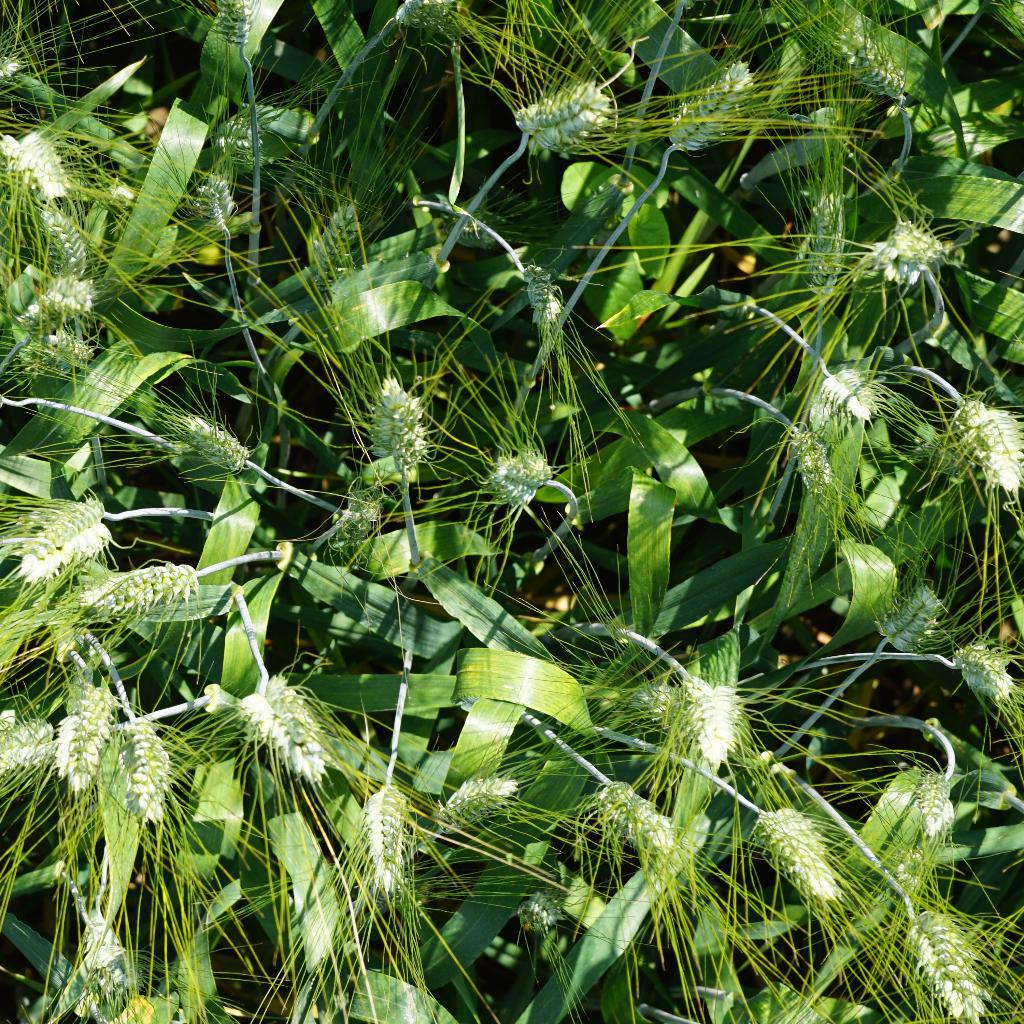0-0: (888, 893, 1005, 1024), (735, 802, 859, 922), (221, 664, 335, 790), (663, 48, 773, 160), (10, 485, 117, 599), (501, 69, 628, 163), (584, 769, 692, 872), (663, 664, 759, 778), (65, 555, 205, 633), (936, 381, 1024, 503), (353, 362, 440, 484), (813, 9, 912, 115), (351, 765, 419, 912), (48, 666, 119, 802), (154, 406, 268, 475), (430, 762, 527, 840), (5, 273, 103, 349), (110, 711, 173, 829), (797, 170, 850, 308), (937, 632, 1024, 716), (308, 181, 366, 306), (0, 121, 83, 208), (874, 570, 954, 660), (860, 215, 945, 296), (810, 354, 895, 433), (68, 891, 131, 996), (476, 436, 564, 511), (614, 672, 712, 739), (25, 196, 94, 290), (0, 708, 65, 807), (513, 258, 584, 348), (777, 420, 843, 508), (321, 482, 395, 559), (902, 762, 965, 850), (423, 201, 524, 255), (199, 105, 274, 172), (81, 933, 149, 1005), (181, 163, 242, 242), (190, 0, 263, 61), (381, 0, 466, 41), (36, 326, 97, 382), (514, 882, 572, 938), (878, 842, 930, 896)
